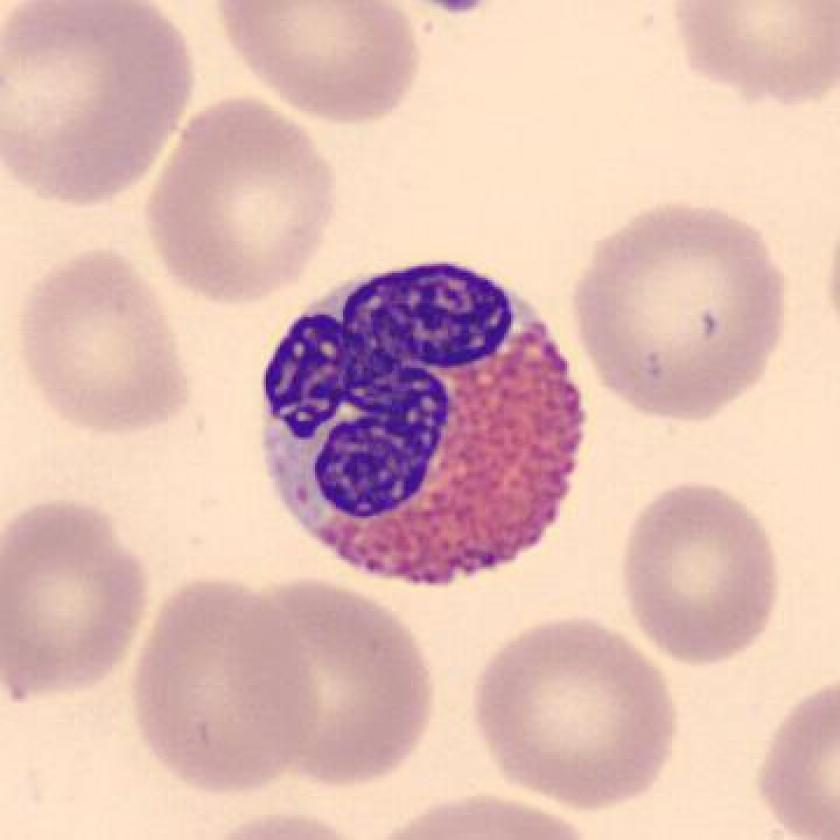eosinophil: (253, 249, 594, 600)
